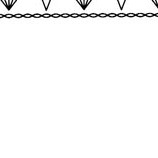double treble: (2, 0, 93, 33)
